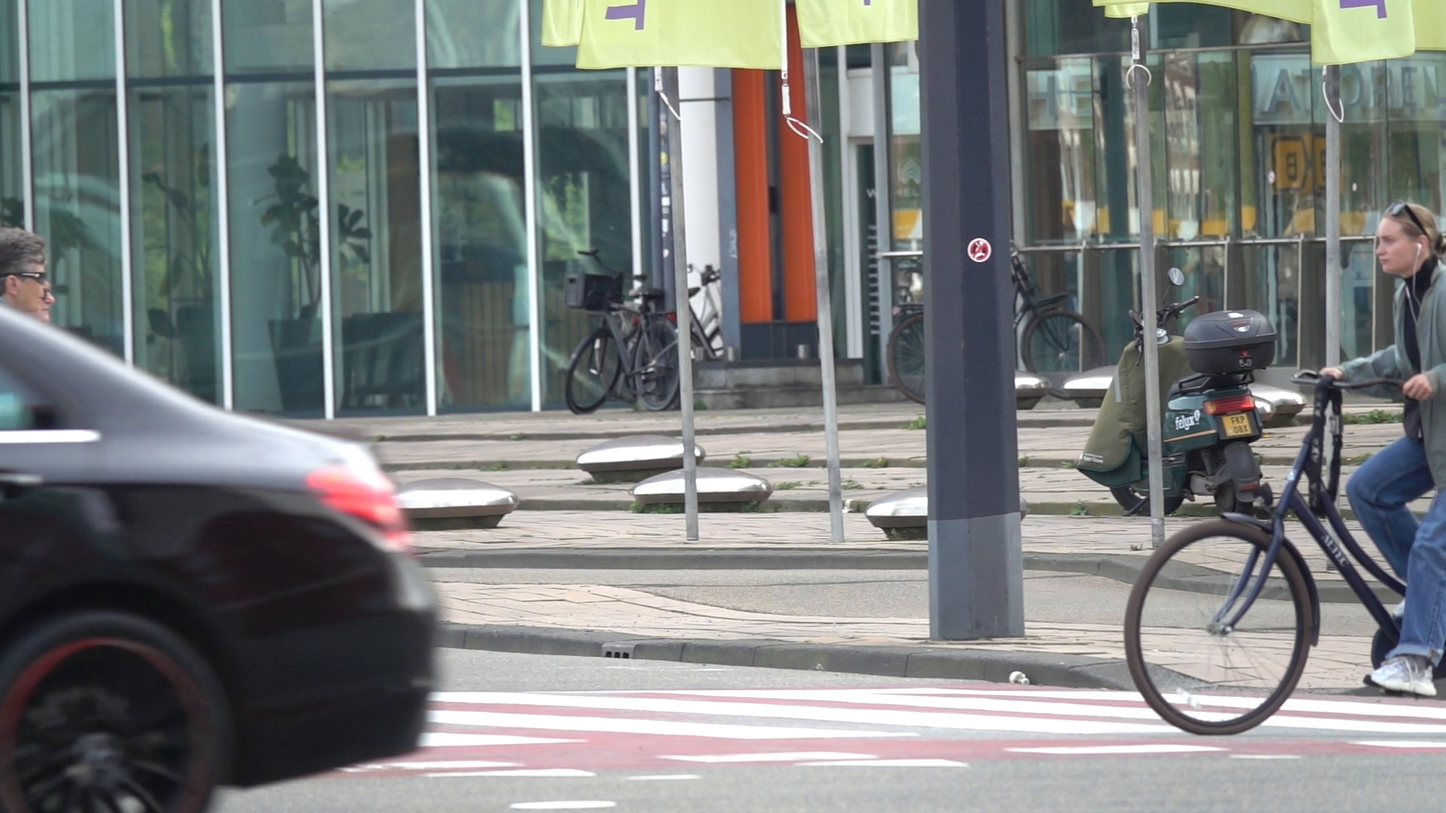car: (1, 305, 440, 805)
